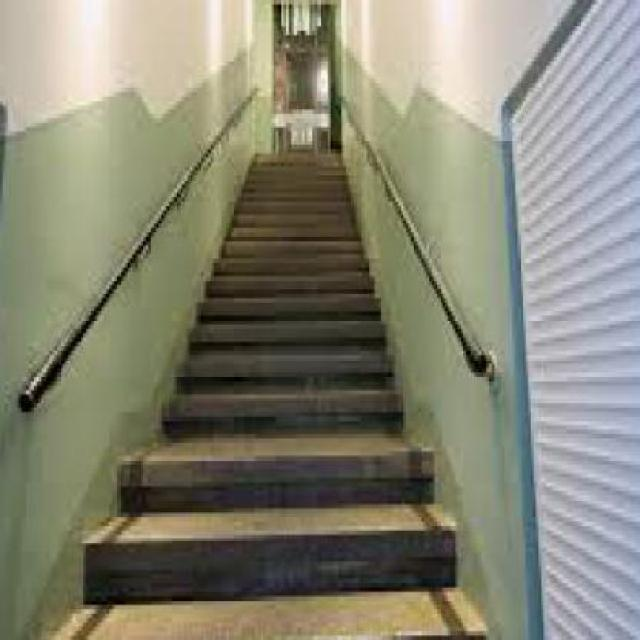stair: (74, 32, 469, 598)
